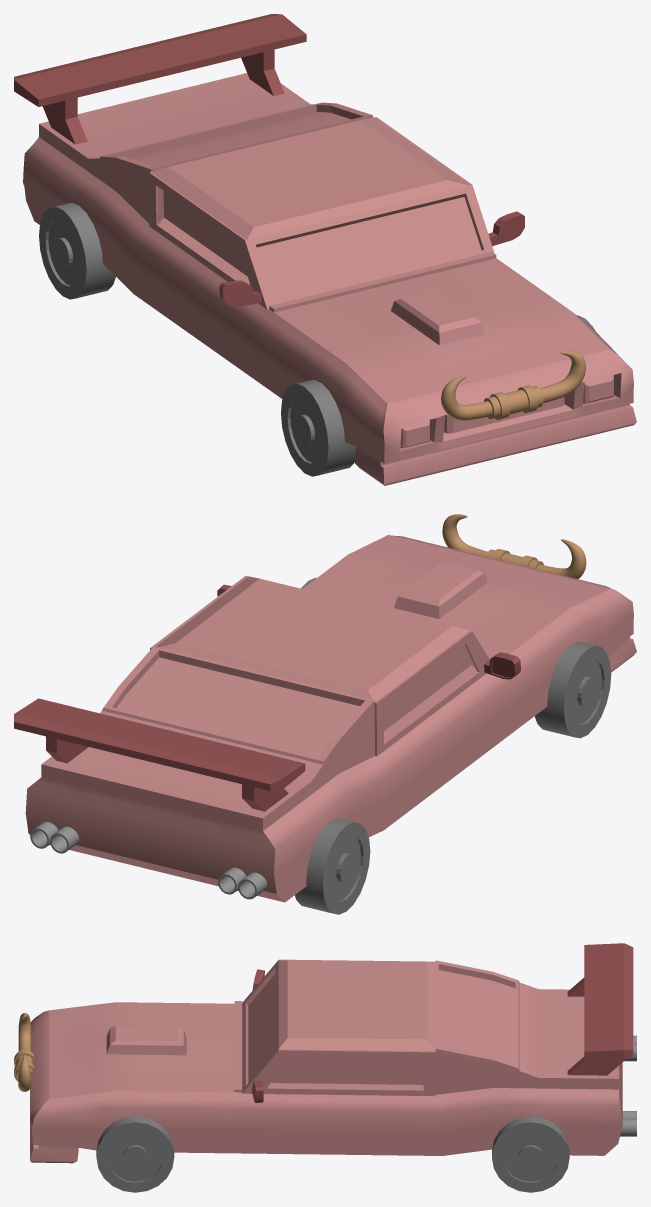
Rendered from Auto.fbx.
3 views of the same model, one above another, from view 1: azimuth 30°, elevation 25°; view 2: azimuth 150°, elevation 25°; view 3: azimuth 270°, elevation 25° (orthographic). The views are drawn at different scales.
Visible parts, largest first — view 1: Auto, Alerones, Auto2, Auto4, Cuernos1, Retrovisor, Retrovisor2; view 2: Auto, Alerones, Auto2, Auto4, Cuernos1, Tubo_de_escape, Tubo_de_escape1, Retrovisor; view 3: Auto (×2), Alerones, Auto3, Cuernos1, Tubo_de_escape1.
Part boxes in pixels (<box>): Auto: <box>23,73,636,485</box>; Alerones: <box>14,14,306,144</box>; Auto2: <box>281,379,355,476</box>; Auto4: <box>39,202,115,299</box>; Cuernos1: <box>441,350,585,420</box>; Retrovisor: <box>219,280,261,306</box>; Retrovisor2: <box>488,211,524,245</box>; Auto: <box>25,535,636,902</box>; Alerones: <box>14,698,305,811</box>; Auto2: <box>534,642,611,738</box>; Auto4: <box>294,818,370,914</box>; Cuernos1: <box>442,514,586,578</box>; Tubo_de_escape: <box>218,867,267,899</box>; Tubo_de_escape1: <box>30,821,79,853</box>; Retrovisor: <box>484,652,521,679</box>; Auto (×2): <box>30,959,622,1192</box>; Alerones: <box>567,943,633,1075</box>; Auto3: <box>492,1116,569,1192</box>; Cuernos1: <box>14,1013,34,1091</box>; Tubo_de_escape1: <box>620,1111,636,1136</box>.
Size of the model in its own units: 0.071 by 0.0389 by 0.1556.
